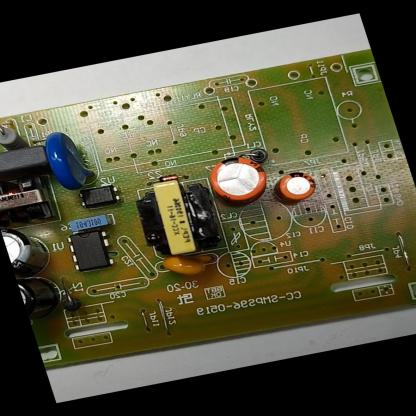Cap1: (204, 149, 279, 207)
Cap2: (272, 166, 324, 206)
Cap3: (0, 218, 58, 278)
Cap4: (15, 268, 67, 323)
MOSFET: (63, 228, 118, 274)
Mov: (39, 127, 100, 192)
Resistor: (0, 121, 30, 154)
Transformer: (126, 171, 228, 263), (0, 170, 59, 228)
